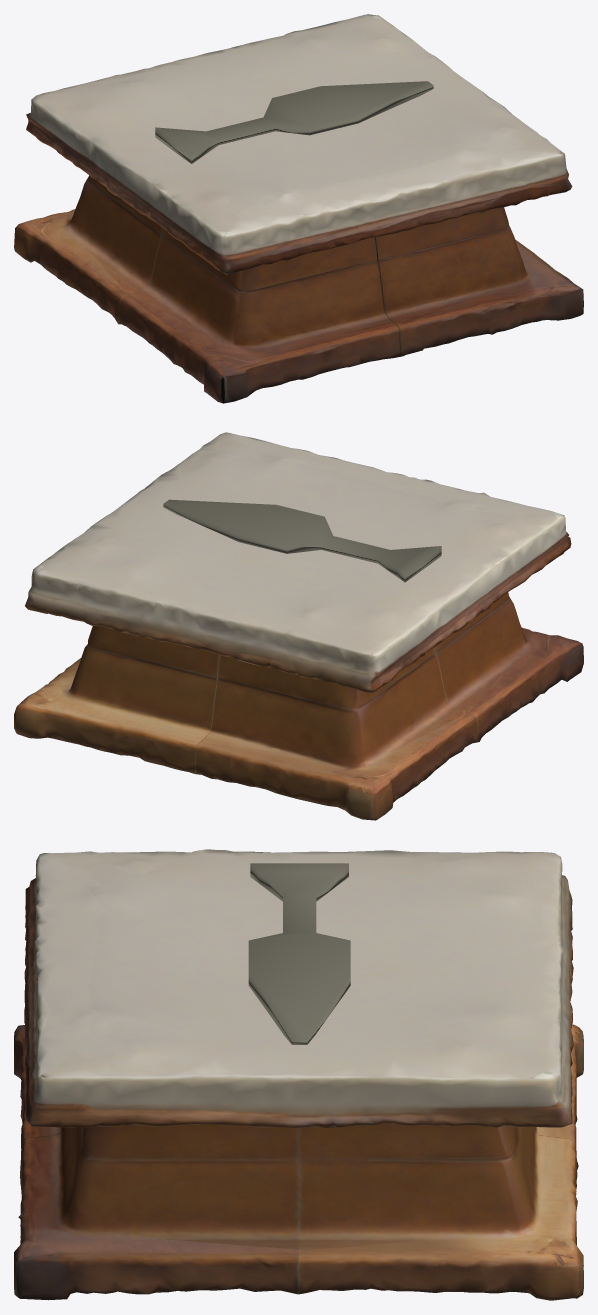
Rendered from benda14.glb.
The picture shows the model from 3 angles, top to bottom: view 1: azimuth 30°, elevation 25°; view 2: azimuth 150°, elevation 25°; view 3: azimuth 270°, elevation 25°; orthographic projection. The views are drawn at different scales.
Parts seen in each view (by area): view 1: Mesh_0, Cube; view 2: Mesh_0, Cube; view 3: Mesh_0, Cube.
Part boxes in pixels (<box>): Mesh_0: <box>14,14,583,403</box>; Cube: <box>155,81,433,163</box>; Mesh_0: <box>14,432,583,820</box>; Cube: <box>163,499,441,582</box>; Mesh_0: <box>14,849,583,1300</box>; Cube: <box>248,863,350,1044</box>.
Bounding box in the file's own units: 3.63 × 1.67 × 3.63.
Materials: 2 (1 with a texture image).
